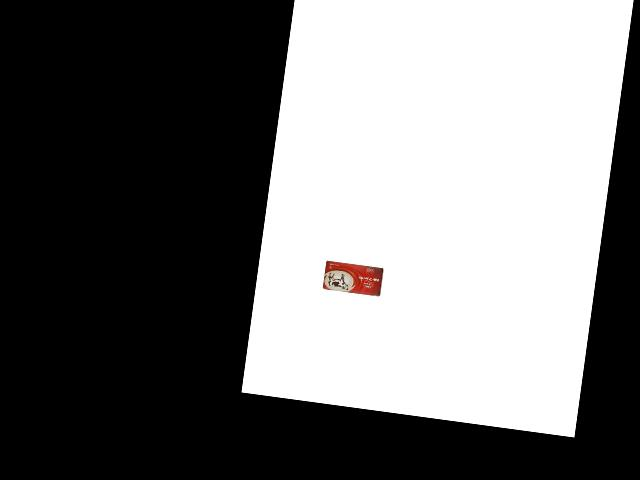chocolate: (322, 259, 385, 296)
